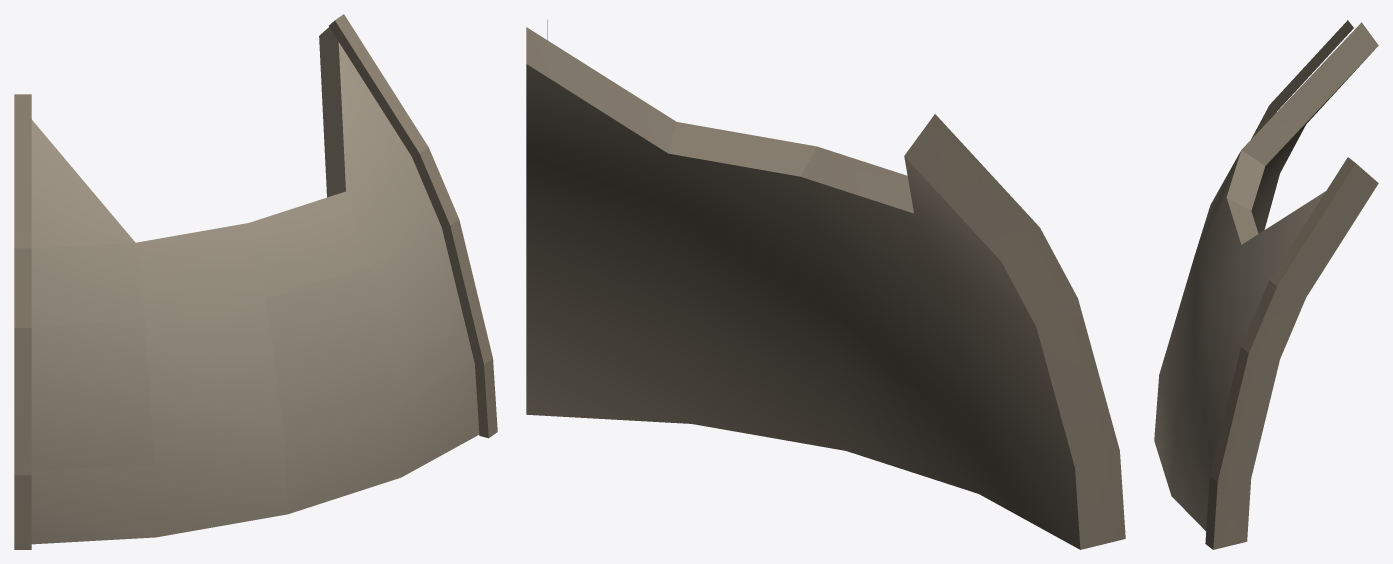
The model's file is dome.panel_6_broken.stone.glb.
The picture shows the model from 3 angles, left to right: view 1: azimuth 30°, elevation 25°; view 2: azimuth 150°, elevation 25°; view 3: azimuth 270°, elevation 25°; orthographic projection. The views are drawn at different scales.
Parts seen in each view (by area): view 1: dome_panel_6_broken_stone; view 2: dome_panel_6_broken_stone; view 3: dome_panel_6_broken_stone.
Boxes of the visible parts, left/top/right/bottom form: dome_panel_6_broken_stone: left=14, top=14, right=497, bottom=549; dome_panel_6_broken_stone: left=526, top=20, right=1125, bottom=549; dome_panel_6_broken_stone: left=1154, top=20, right=1378, bottom=549.
Size of what is drawn, in the model's own units: 3.57 by 2.68 by 1.55.
